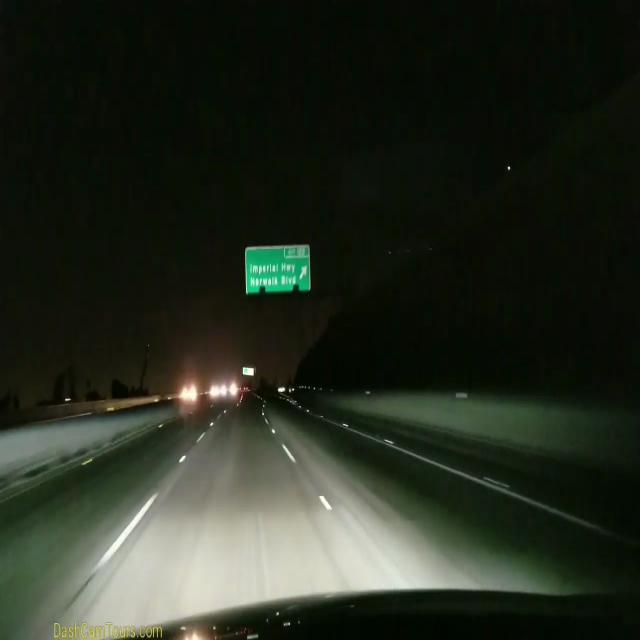street-signs: (245, 246, 311, 294), (242, 365, 254, 376)
